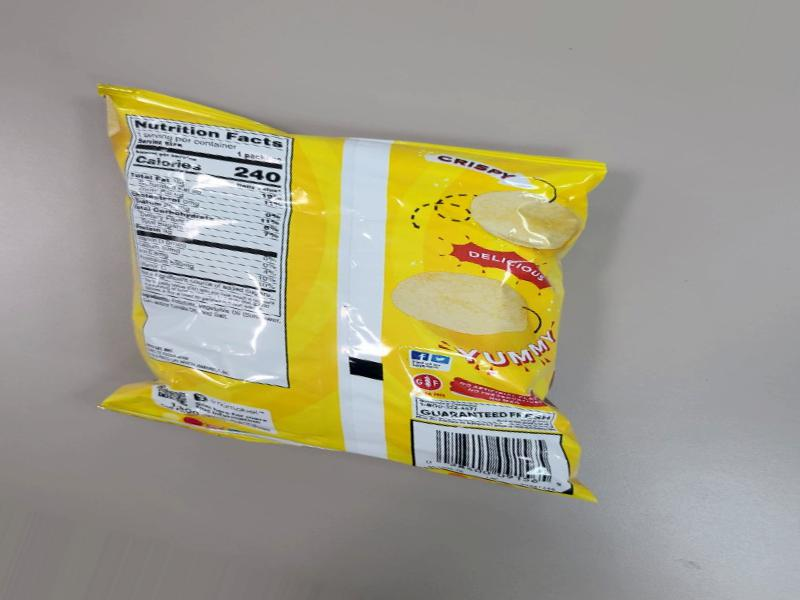lays: (106, 129, 587, 496)
